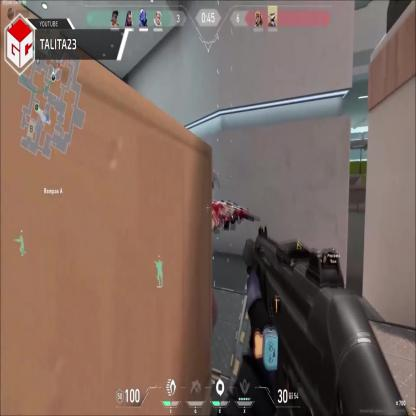enemy: (180, 162, 225, 374)
enemy_head: (193, 168, 217, 204)
